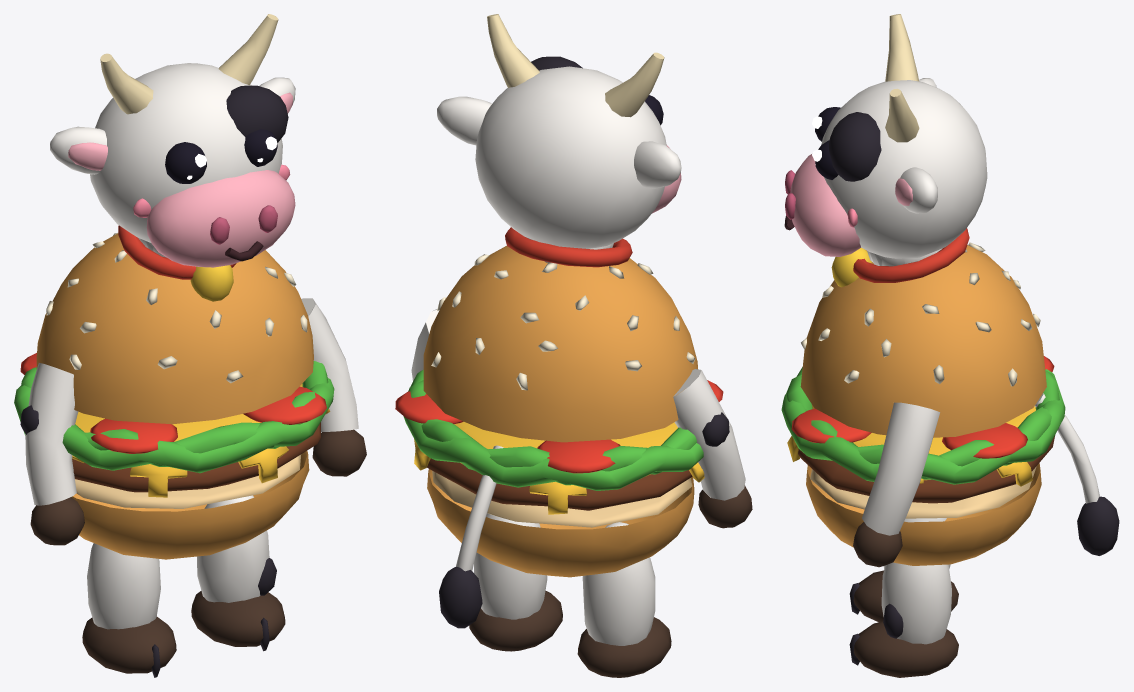
The model's file is pilot_ku2_burger_lav.glb.
3 renders of one model, left to right at view 1: azimuth 30°, elevation 25°; view 2: azimuth 150°, elevation 25°; view 3: azimuth 270°, elevation 25°, orthographic. The views are drawn at different scales.
Parts seen in each view (by area): view 1: kropp, hode, bein_vf, bein_hf, vinge_v, vinge_h; view 2: kropp, hode, bein_vf, vinge_v, bein_hf, hale, vinge_h; view 3: kropp, hode, bein_hf, vinge_h, hale, bein_vf.
Boxes of the visible parts, x1,y1,x2,y2 form: kropp: (14, 233, 334, 559); hode: (50, 14, 295, 301); bein_vf: (82, 543, 176, 677); bein_hf: (191, 495, 285, 651); vinge_v: (20, 363, 84, 545); vinge_h: (301, 298, 366, 476); kropp: (395, 246, 723, 577); hode: (437, 14, 681, 267); bein_vf: (577, 522, 671, 677); vinge_v: (673, 369, 752, 528); bein_hf: (469, 513, 562, 651); hale: (439, 445, 503, 628); vinge_h: (411, 309, 439, 380); kropp: (781, 242, 1065, 565); hode: (784, 14, 987, 287); bein_hf: (849, 562, 958, 677); vinge_h: (853, 402, 940, 567); hale: (1035, 393, 1119, 555); bein_vf: (849, 518, 958, 622).
Bounding box in the file's own units: 1.03 × 1.85 × 0.9552.
